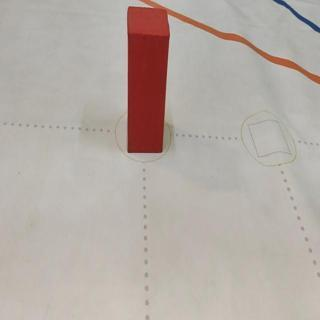redbox: (125, 5, 170, 155)
